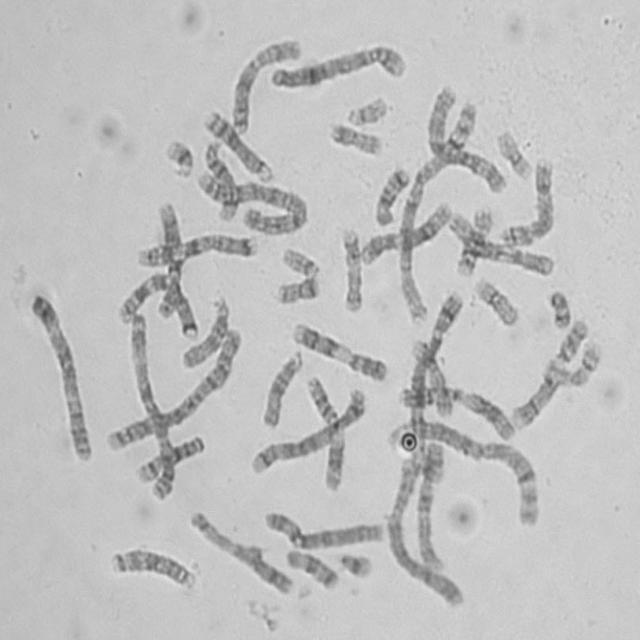A1: (392, 91, 480, 326), (379, 412, 542, 529)
A2: (102, 322, 246, 455), (190, 164, 308, 236)
A3: (24, 284, 94, 463), (123, 308, 177, 502)
B4: (382, 450, 466, 609), (266, 38, 409, 92)
B5: (245, 381, 367, 477), (406, 290, 464, 440)
C10: (445, 203, 557, 278), (412, 435, 448, 573)
C11: (397, 378, 518, 442), (299, 369, 346, 493)
C12: (355, 194, 454, 267), (142, 199, 180, 317)
C6: (422, 79, 508, 195), (258, 504, 387, 552)
C7: (111, 267, 200, 341), (132, 228, 260, 270)
C8: (186, 510, 294, 595), (496, 152, 557, 248)
C9: (506, 311, 590, 432), (287, 315, 389, 383)
D13: (198, 104, 275, 184), (105, 541, 198, 593)
D14: (131, 429, 208, 485), (198, 134, 242, 222)
D15: (176, 290, 231, 370), (256, 343, 304, 429)
E16: (539, 345, 611, 395), (452, 202, 496, 278)
E17: (407, 334, 456, 421), (336, 221, 365, 314)
E18: (370, 160, 412, 228), (282, 543, 341, 591)
F19: (469, 270, 521, 329), (490, 123, 534, 182)
F20: (324, 114, 384, 158), (271, 269, 321, 306)
G21: (160, 132, 196, 180), (333, 545, 374, 580)
G22: (341, 89, 389, 127), (276, 242, 322, 279)
X: (226, 32, 304, 134)
Y: (538, 290, 576, 330)
